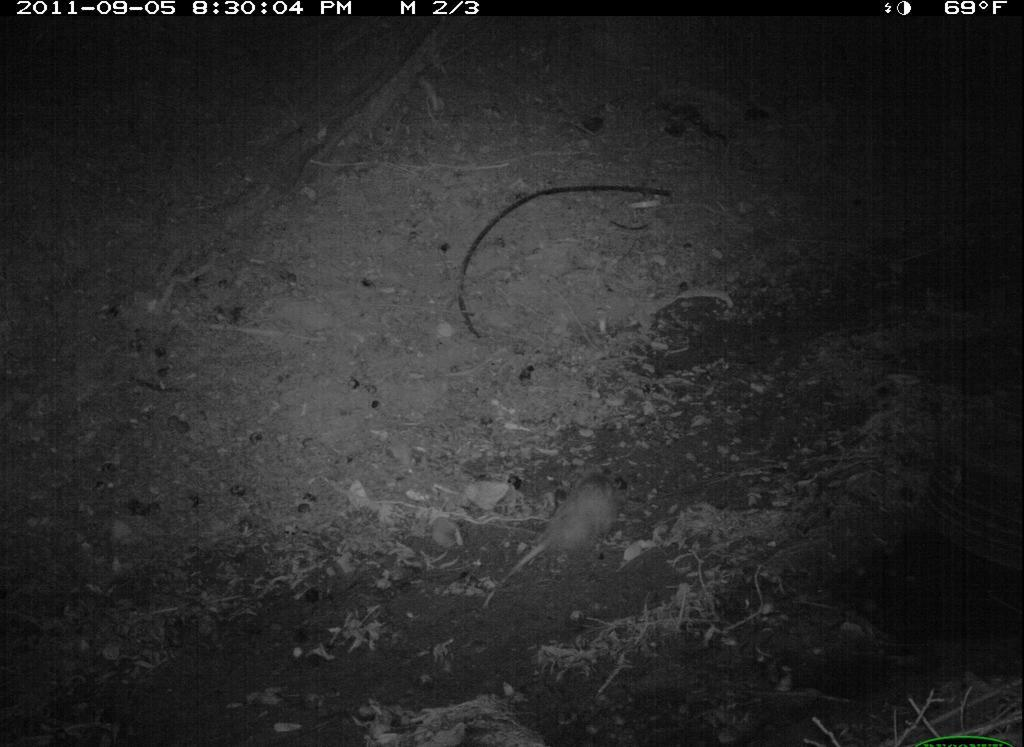opossum: (464, 457, 624, 603)
